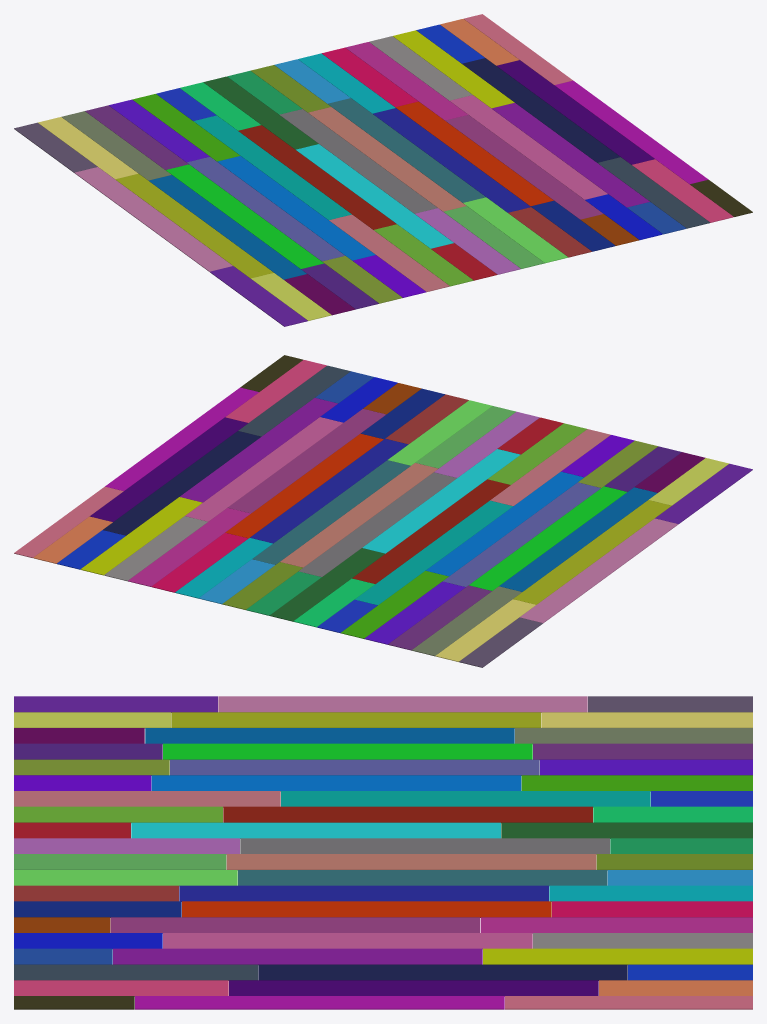
Rendered from generic_floor01.fbx.
3 renders of one model, top to bottom at view 1: azimuth 30°, elevation 25°; view 2: azimuth 150°, elevation 25°; view 3: azimuth 270°, elevation 25°, orthographic. The views are drawn at different scales.
Parts seen in each view (by area): view 1: Floor; view 2: Floor; view 3: Floor.
Part boxes in pixels (x1=…): Floor: x1=14, y1=14, x2=752, y2=326; Floor: x1=14, y1=355, x2=752, y2=667; Floor: x1=14, y1=696, x2=752, y2=1009.
Bounding box in the file's own units: 400 × 400 × 0.5.
